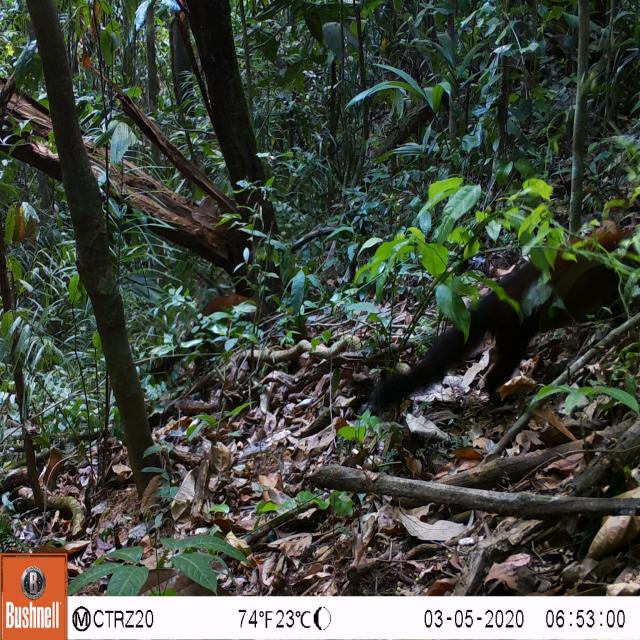South American Coati: (354, 212, 630, 426)
